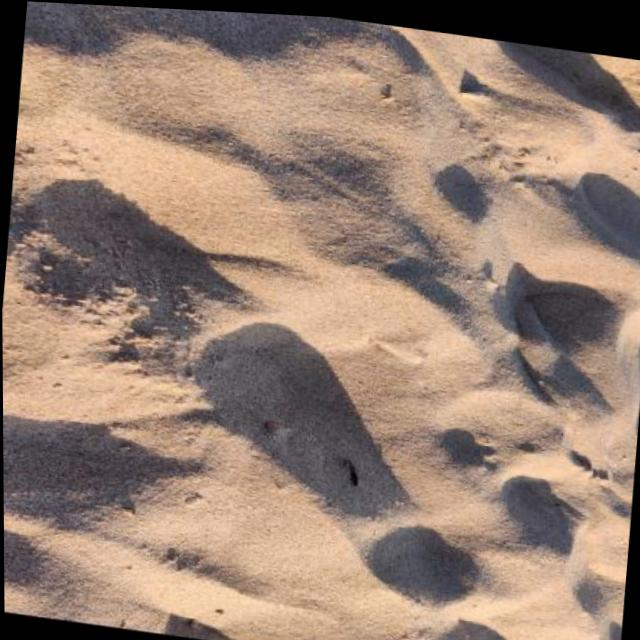plastic: (369, 340, 426, 366)
